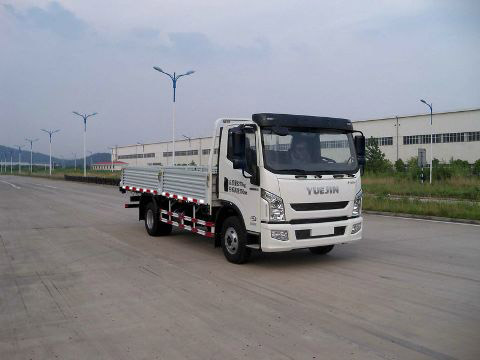smalltruck: (104, 92, 382, 272)
